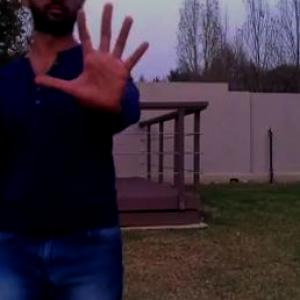follow_hand: (29, 0, 159, 121)
